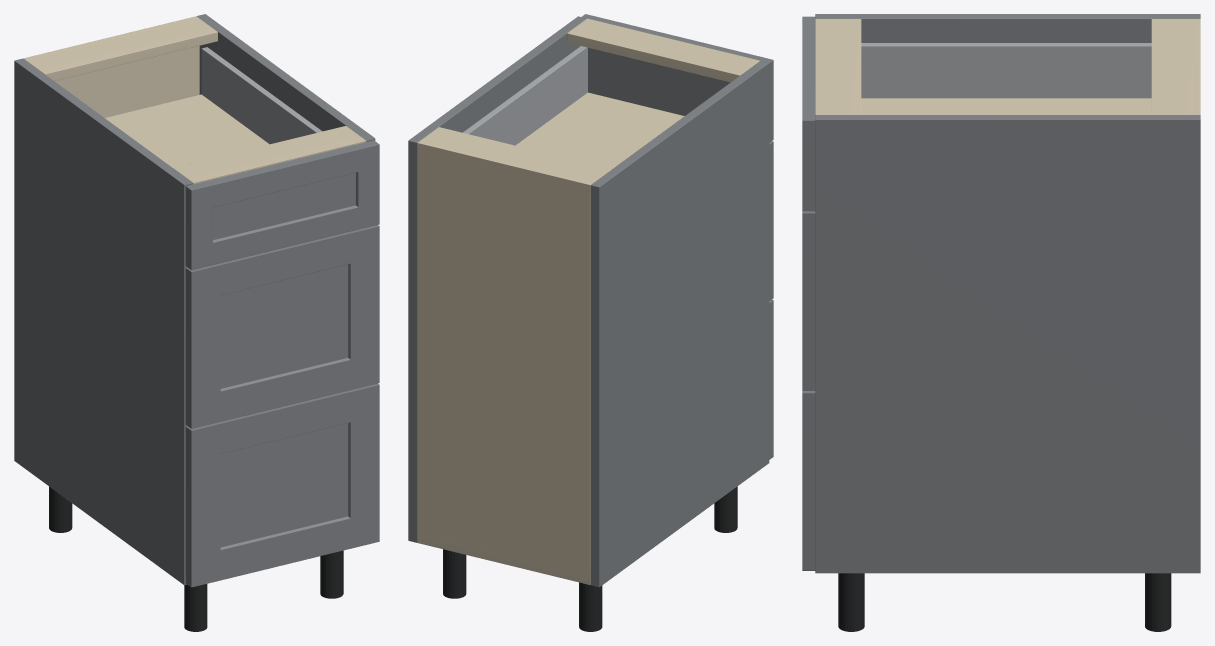
Rendered from oppein-ply-gss-3db15.glb.
3 views of the same model, side by side, from view 1: azimuth 30°, elevation 25°; view 2: azimuth 150°, elevation 25°; view 3: azimuth 270°, elevation 25° (orthographic). The views are drawn at different scales.
Parts seen in each view (by area): view 1: Cabinet side, Drawer front.001, Drawer front, Drawer front.002, Cabinet back, Drawer floor.002, Drawer side.005, Top support rail, Cabinet side.001, Top support rail.001, Adjustable foot.001, Adjustable foot.003 (+1 smaller); view 2: Cabinet side, Cabinet back, Cabinet side.001, Drawer floor.002, Drawer front.002, Drawer side.005, Top support rail.001, Top support rail, Cabinet bottom, Adjustable foot, Adjustable foot.002, Adjustable foot.001 (+2 smaller); view 3: Cabinet side.001, Drawer side.004, Cabinet side, Drawer floor.002, Top support rail.001, Top support rail, Drawer front.002, Drawer front, Drawer front.001, Adjustable foot.002, Adjustable foot.003, Cabinet back.
Part boxes in pixels (x1,y1,x2,y2): Cabinet side: (14, 58, 192, 585); Drawer front.001: (185, 225, 379, 428); Drawer front: (185, 383, 379, 587); Drawer front.002: (185, 140, 379, 270); Cabinet back: (23, 16, 199, 117); Drawer floor.002: (105, 94, 269, 167); Drawer side.005: (201, 47, 322, 144); Top support rail: (26, 18, 217, 80); Cabinet side.001: (197, 14, 375, 141); Top support rail.001: (173, 126, 366, 184); Adjustable foot.001: (184, 584, 207, 631); Adjustable foot.003: (320, 550, 343, 598); Cabinet side: (590, 61, 769, 587); Cabinet back: (417, 140, 593, 584); Cabinet side.001: (408, 16, 586, 542); Drawer floor.002: (516, 92, 684, 168); Drawer front.002: (582, 14, 773, 142); Drawer side.005: (463, 46, 587, 145); Top support rail.001: (567, 18, 759, 82); Top support rail: (421, 127, 611, 183); Cabinet bottom: (417, 534, 590, 584); Adjustable foot: (579, 582, 602, 631); Adjustable foot.002: (443, 549, 466, 598); Adjustable foot.001: (714, 486, 737, 532); Cabinet side.001: (815, 115, 1200, 573); Drawer side.004: (861, 43, 1151, 98); Cabinet side: (815, 14, 1200, 42); Drawer floor.002: (861, 98, 1151, 114); Top support rail.001: (815, 19, 861, 114); Top support rail: (1151, 19, 1193, 114); Drawer front.002: (802, 16, 815, 211); Drawer front: (802, 391, 815, 570); Drawer front.001: (802, 211, 815, 390); Adjustable foot.002: (1145, 573, 1171, 631); Adjustable foot.003: (838, 573, 864, 631); Cabinet back: (1193, 19, 1200, 114).
Size of the model in its own units: 0.381 by 0.8763 by 0.6064.
